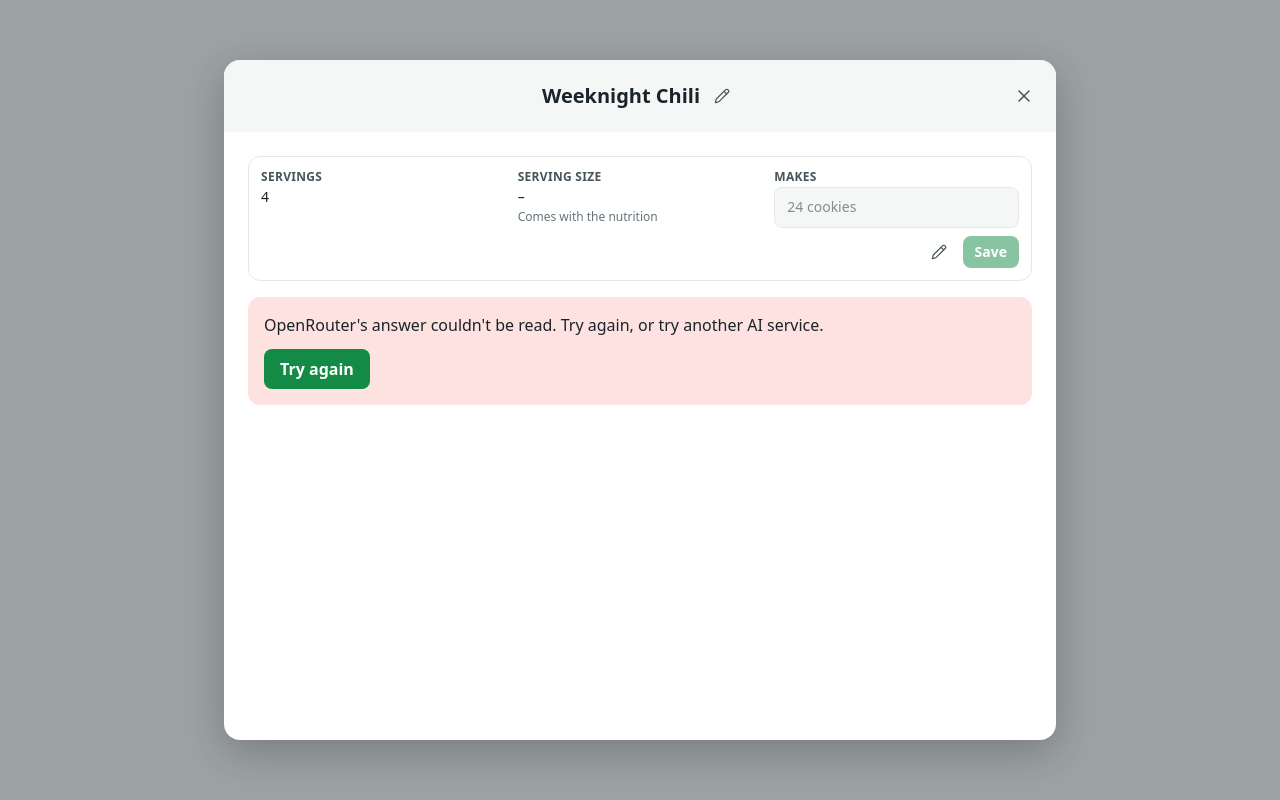
Test case: Improve with AI, one part at a time › when the AI fails it says why and Try again asks again
The width and height of the screenshot is (1280, 800).
Expected: the text "couldn't be read" is shown, [264,314,824,336]
Expected: the button "Accept change" is not shown
What coordinates should you click on to do the following:
click the button "Try again"
I would click on:
 (317, 369)
Its box is [264,349,370,389].
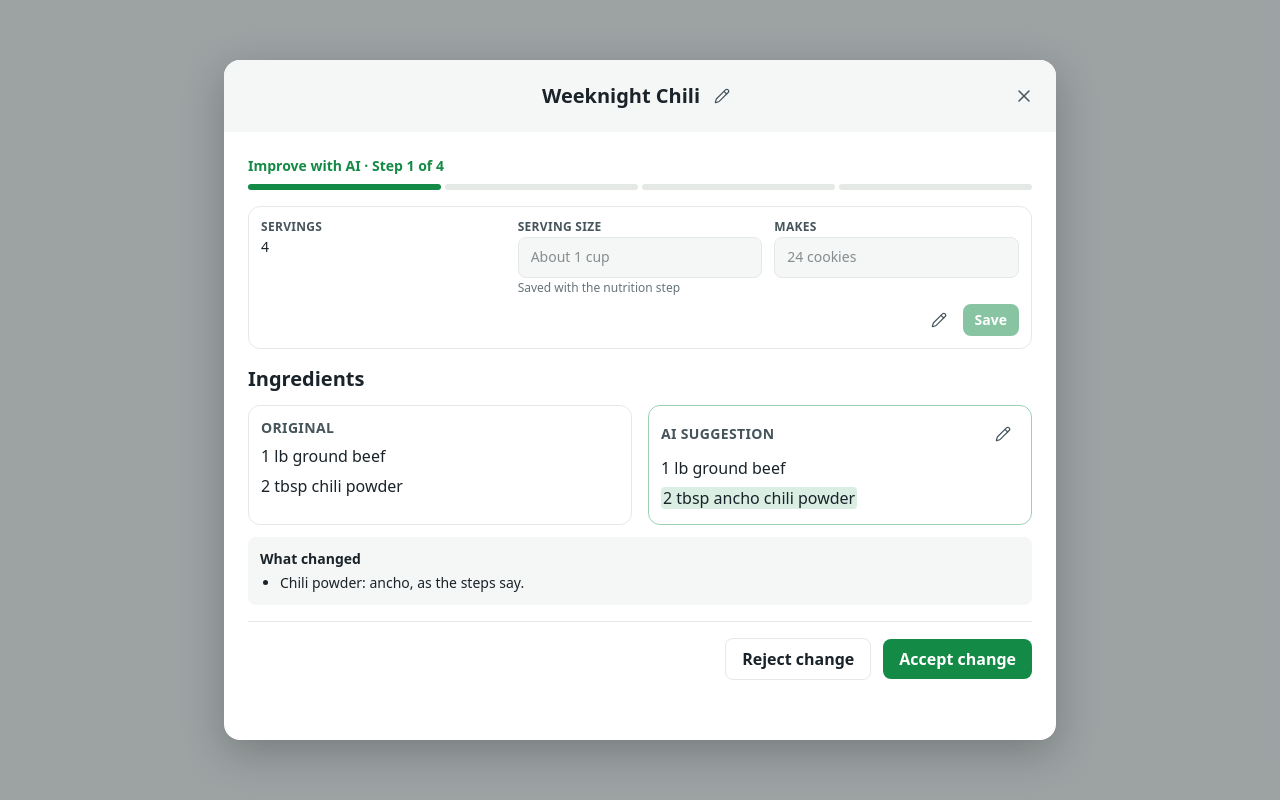
Result: the element "Ingredients" is shown at [248,365,1032,605]
